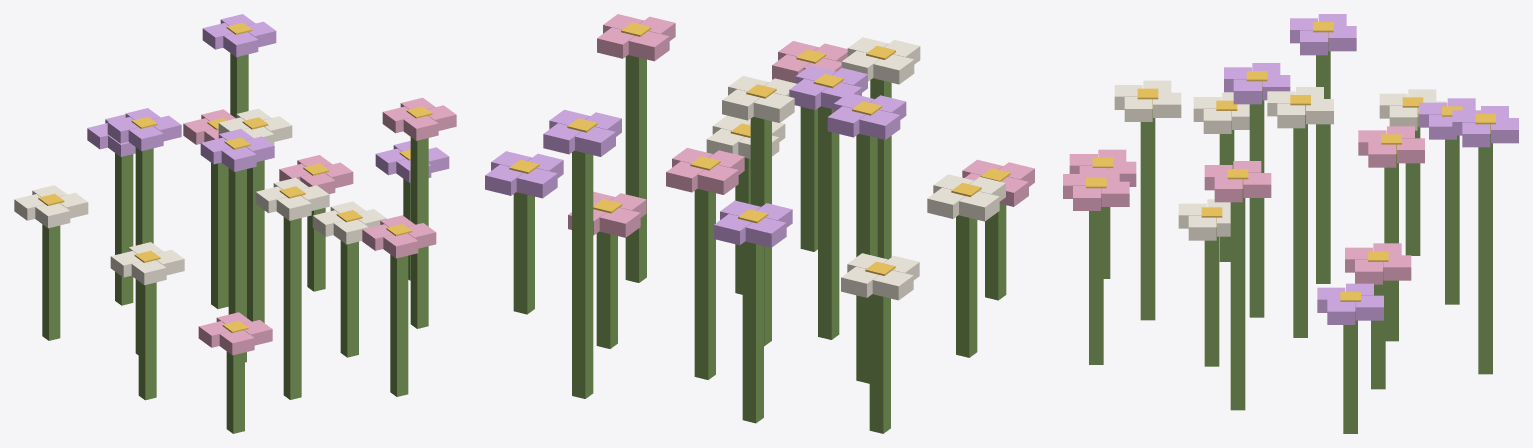
The model's file is cave_wildflowers.glb.
3 renders of one model, left to right at view 1: azimuth 30°, elevation 25°; view 2: azimuth 150°, elevation 25°; view 3: azimuth 270°, elevation 25°, orthographic. The views are drawn at different scales.
Size of the model in its own units: 0.7991 by 0.4604 by 0.7472.
